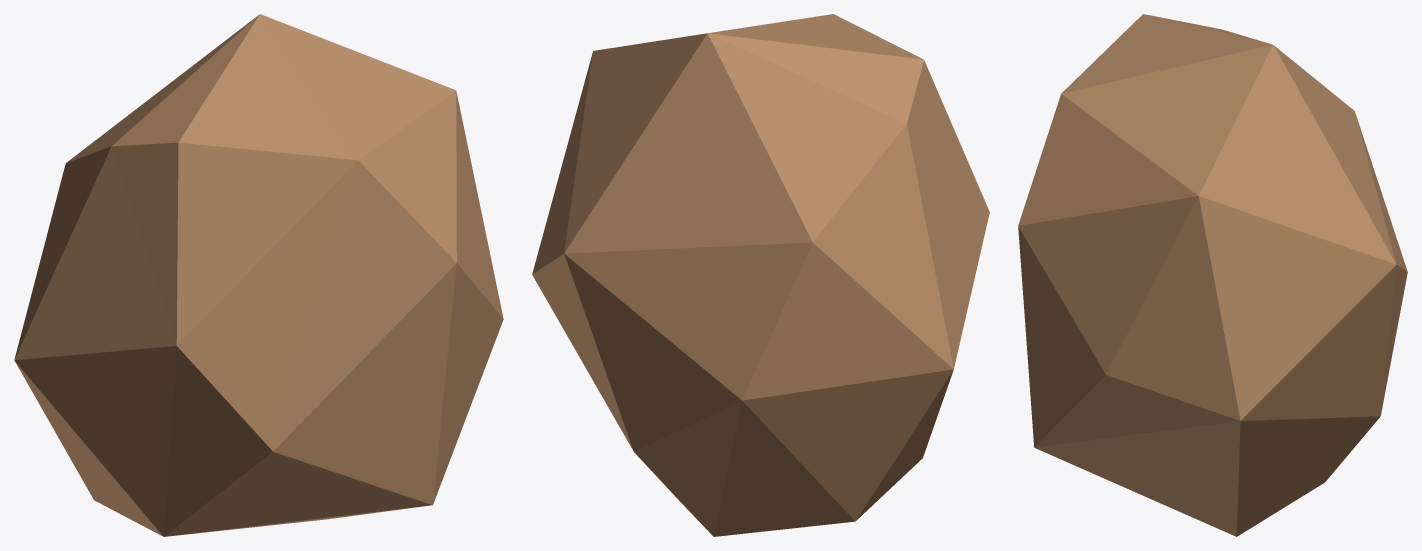
The model's file is Rock_07_Pebble.fbx.
3 views of the same model, side by side, from view 1: azimuth 30°, elevation 25°; view 2: azimuth 150°, elevation 25°; view 3: azimuth 270°, elevation 25° (orthographic). The views are drawn at different scales.
Parts seen in each view (by area): view 1: Rock_07_Pebble; view 2: Rock_07_Pebble; view 3: Rock_07_Pebble.
Part boxes in pixels (<box>): Rock_07_Pebble: <box>14,14,503,536</box>; Rock_07_Pebble: <box>532,14,989,536</box>; Rock_07_Pebble: <box>1018,14,1407,536</box>.
Size of the model in its own units: 0.9072 by 0.9806 by 0.7363.
